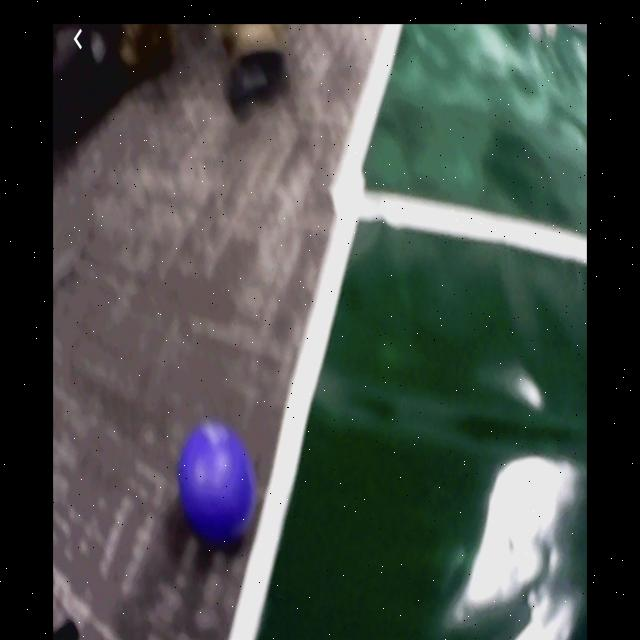ball: (178, 423, 256, 541)
